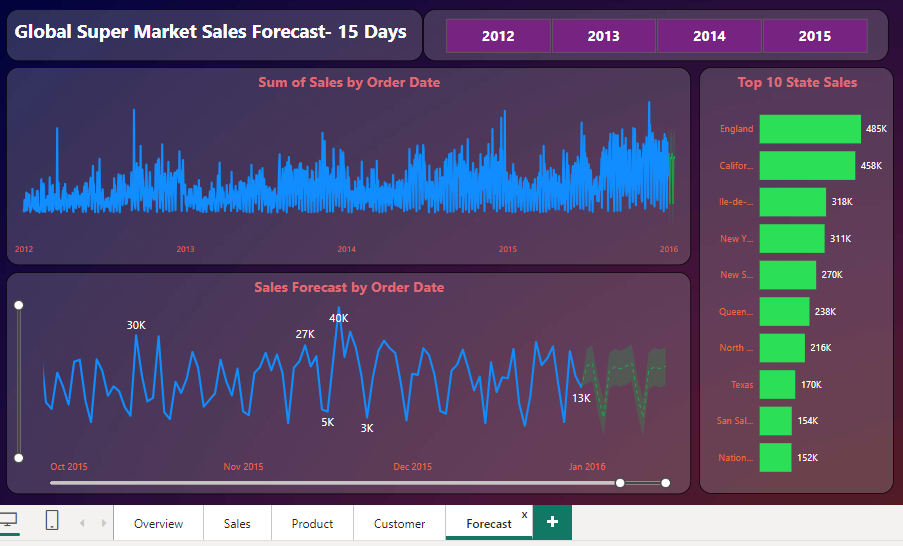

The dashboard page shown, as its layout file describes it:
{"tool":"powerbi","page":{"name":"Forecast","canvas":[1280,720],"ordinal":4},"visuals":[{"type":"clusteredBarChart","title":"Top 10 State Sales","fields":{"Category":["Orders.State"],"Y":["Sum(Orders.Sales)","Sum(Orders.Sales)"]},"box":[992.1,99.2,276.4,605.2],"z":0},{"type":"slicer","fields":{"Values":["Orders.Order Date.Variation.Date Hierarchy.Year"]},"box":[600.9,17,660.5,73.7],"z":1000},{"type":"textbox","box":[9.9,17,591,73.7],"z":2000},{"type":"lineChart","fields":{"Y":["Sum(Orders.Sales)"],"Category":["Orders.Order Date"]},"box":[9.9,99.2,970.9,280.6],"z":3000},{"type":"lineChart","title":"Sales Forecast by Order Date","fields":{"Y":["Sum(Orders.Sales)"],"Category":["Orders.Order Date"]},"box":[9.9,389.8,970.9,314.6],"z":4000}]}

Visuals, with their boxes on the page's 1280x720 design canvas (x1, y1, x2, y2). These are canvas units, not pixel positions in the 903x546 screenshot, which may show the page scaled, cropped or inside an application window:
"Top 10 State Sales" clusteredBarChart: (992, 99, 1268, 704)
slicer - Orders.Order Date.Variation.Date Hierarchy.Year: (601, 17, 1261, 91)
textbox: (10, 17, 601, 91)
lineChart - Sum(Orders.Sales) x Orders.Order Date: (10, 99, 981, 380)
"Sales Forecast by Order Date" lineChart: (10, 390, 981, 704)
